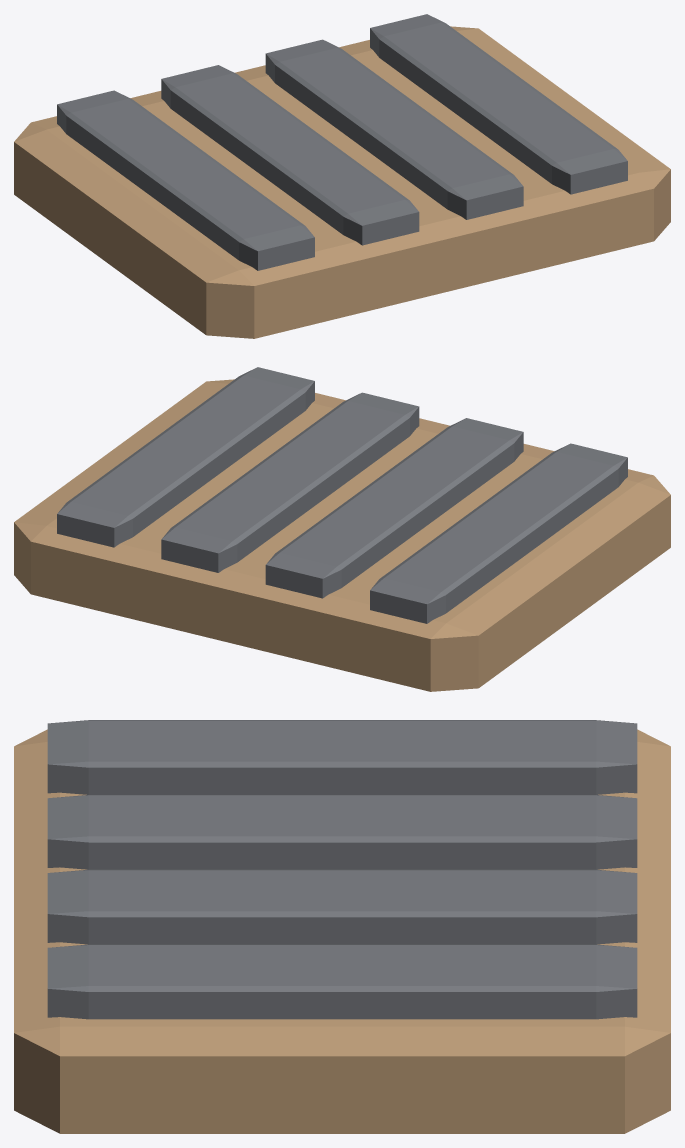
File: b14_empty_wood_shipping_pallet.glb
The picture shows the model from 3 angles, top to bottom: view 1: azimuth 30°, elevation 25°; view 2: azimuth 150°, elevation 25°; view 3: azimuth 270°, elevation 25°; orthographic projection. The views are drawn at different scales.
Parts seen in each view (by area): view 1: b14_empty_wood_shipping_pallet; view 2: b14_empty_wood_shipping_pallet; view 3: b14_empty_wood_shipping_pallet.
Part boxes in pixels (bbox=[...]): b14_empty_wood_shipping_pallet: bbox=[14, 14, 670, 338]; b14_empty_wood_shipping_pallet: bbox=[14, 367, 670, 691]; b14_empty_wood_shipping_pallet: bbox=[14, 720, 670, 1133].
Bounding box in the file's own units: 1.2 × 0.202 × 1.
